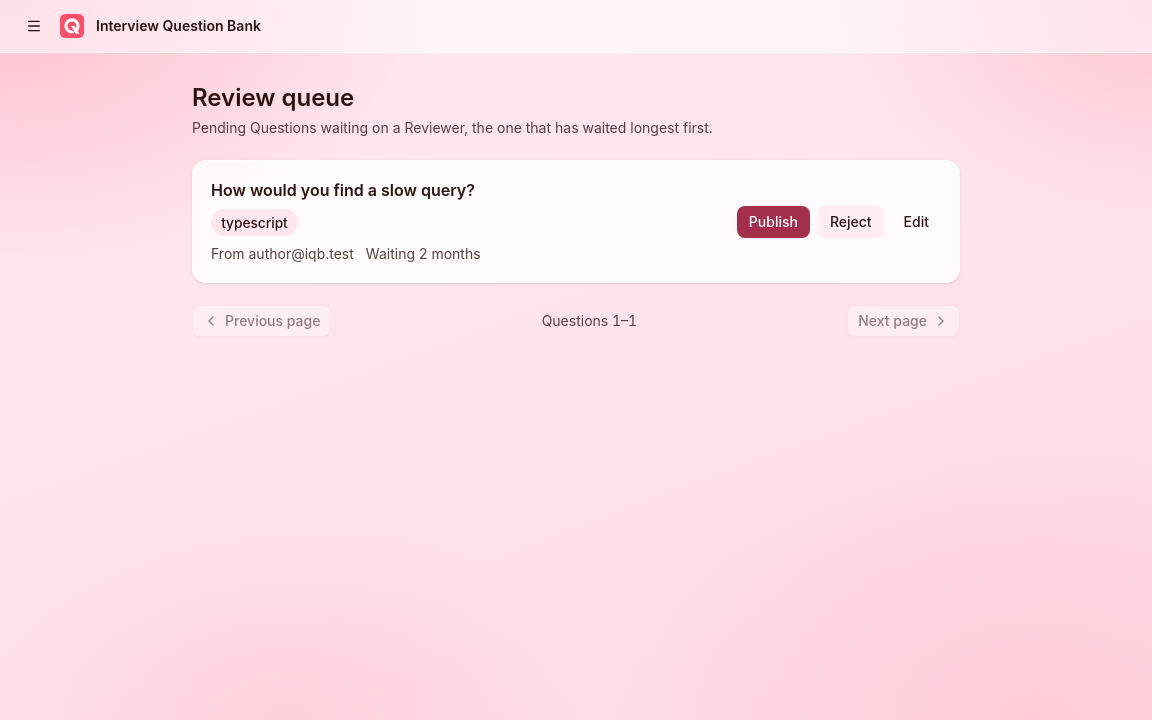
it: a Near-Duplicate found at publication › publishes it with the Reviewer's word that it is different
Click the button "Publish". click: (773, 222)
box: [737, 206, 810, 238]
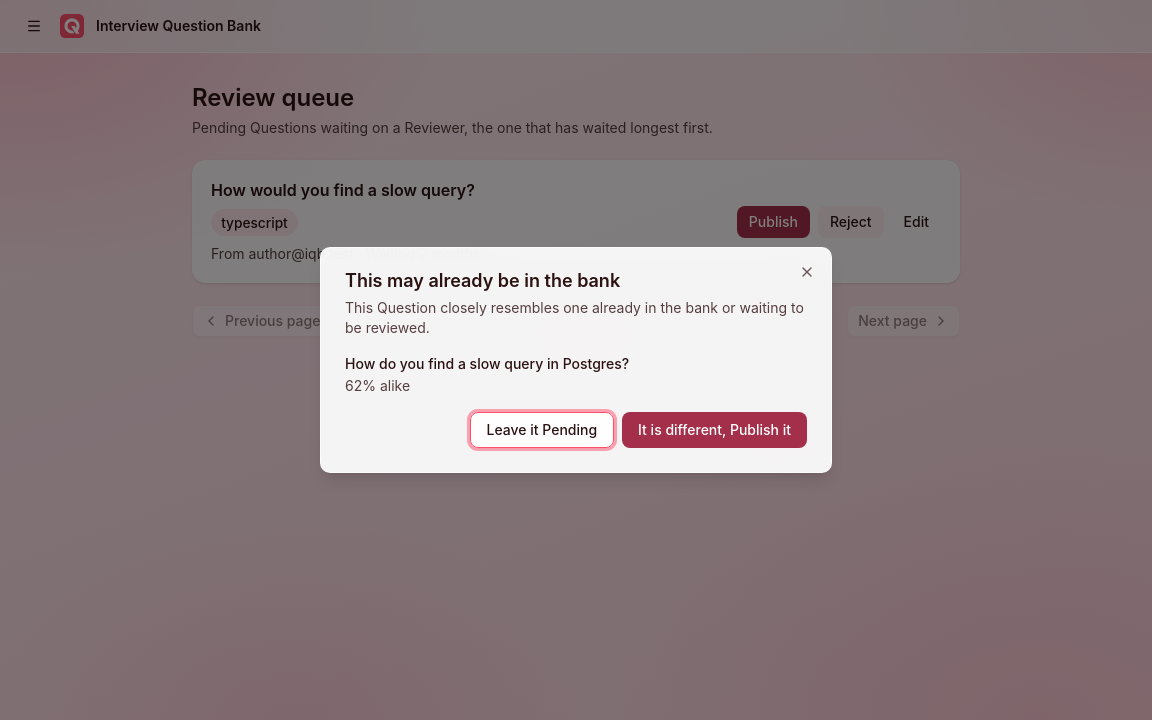
Click the button "It is different, Publish it". click: (715, 430)
box: [622, 412, 807, 448]
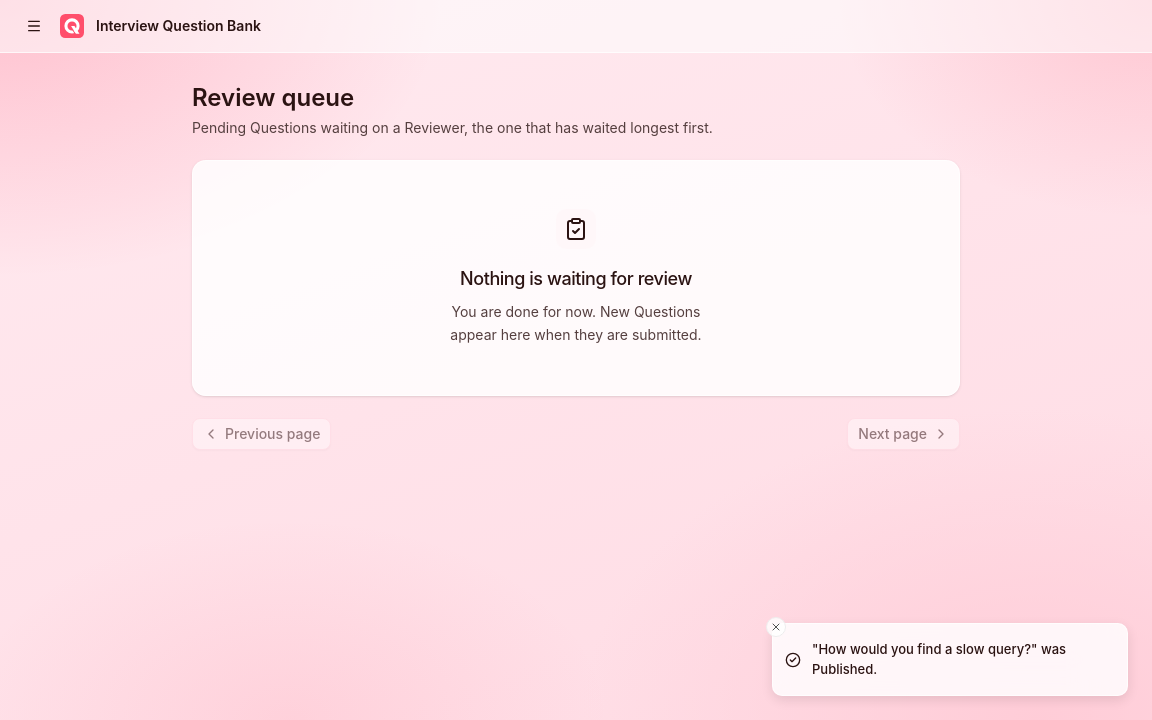
Now the heading "Nothing is waiting for review" is shown, box [460, 265, 692, 293]
